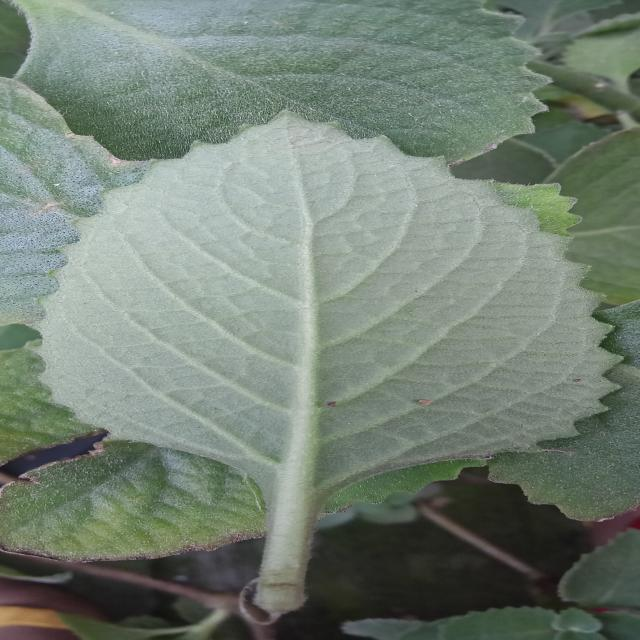Oregano: (35, 112, 633, 512)
